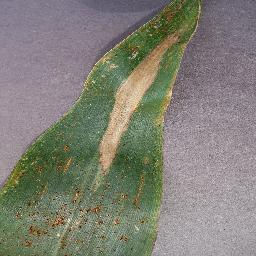Corn_Blight: (89, 21, 187, 183), (2, 136, 73, 203), (76, 186, 164, 234), (1, 229, 145, 253), (0, 205, 71, 227), (189, 0, 204, 50), (149, 0, 190, 18), (72, 74, 88, 115)
